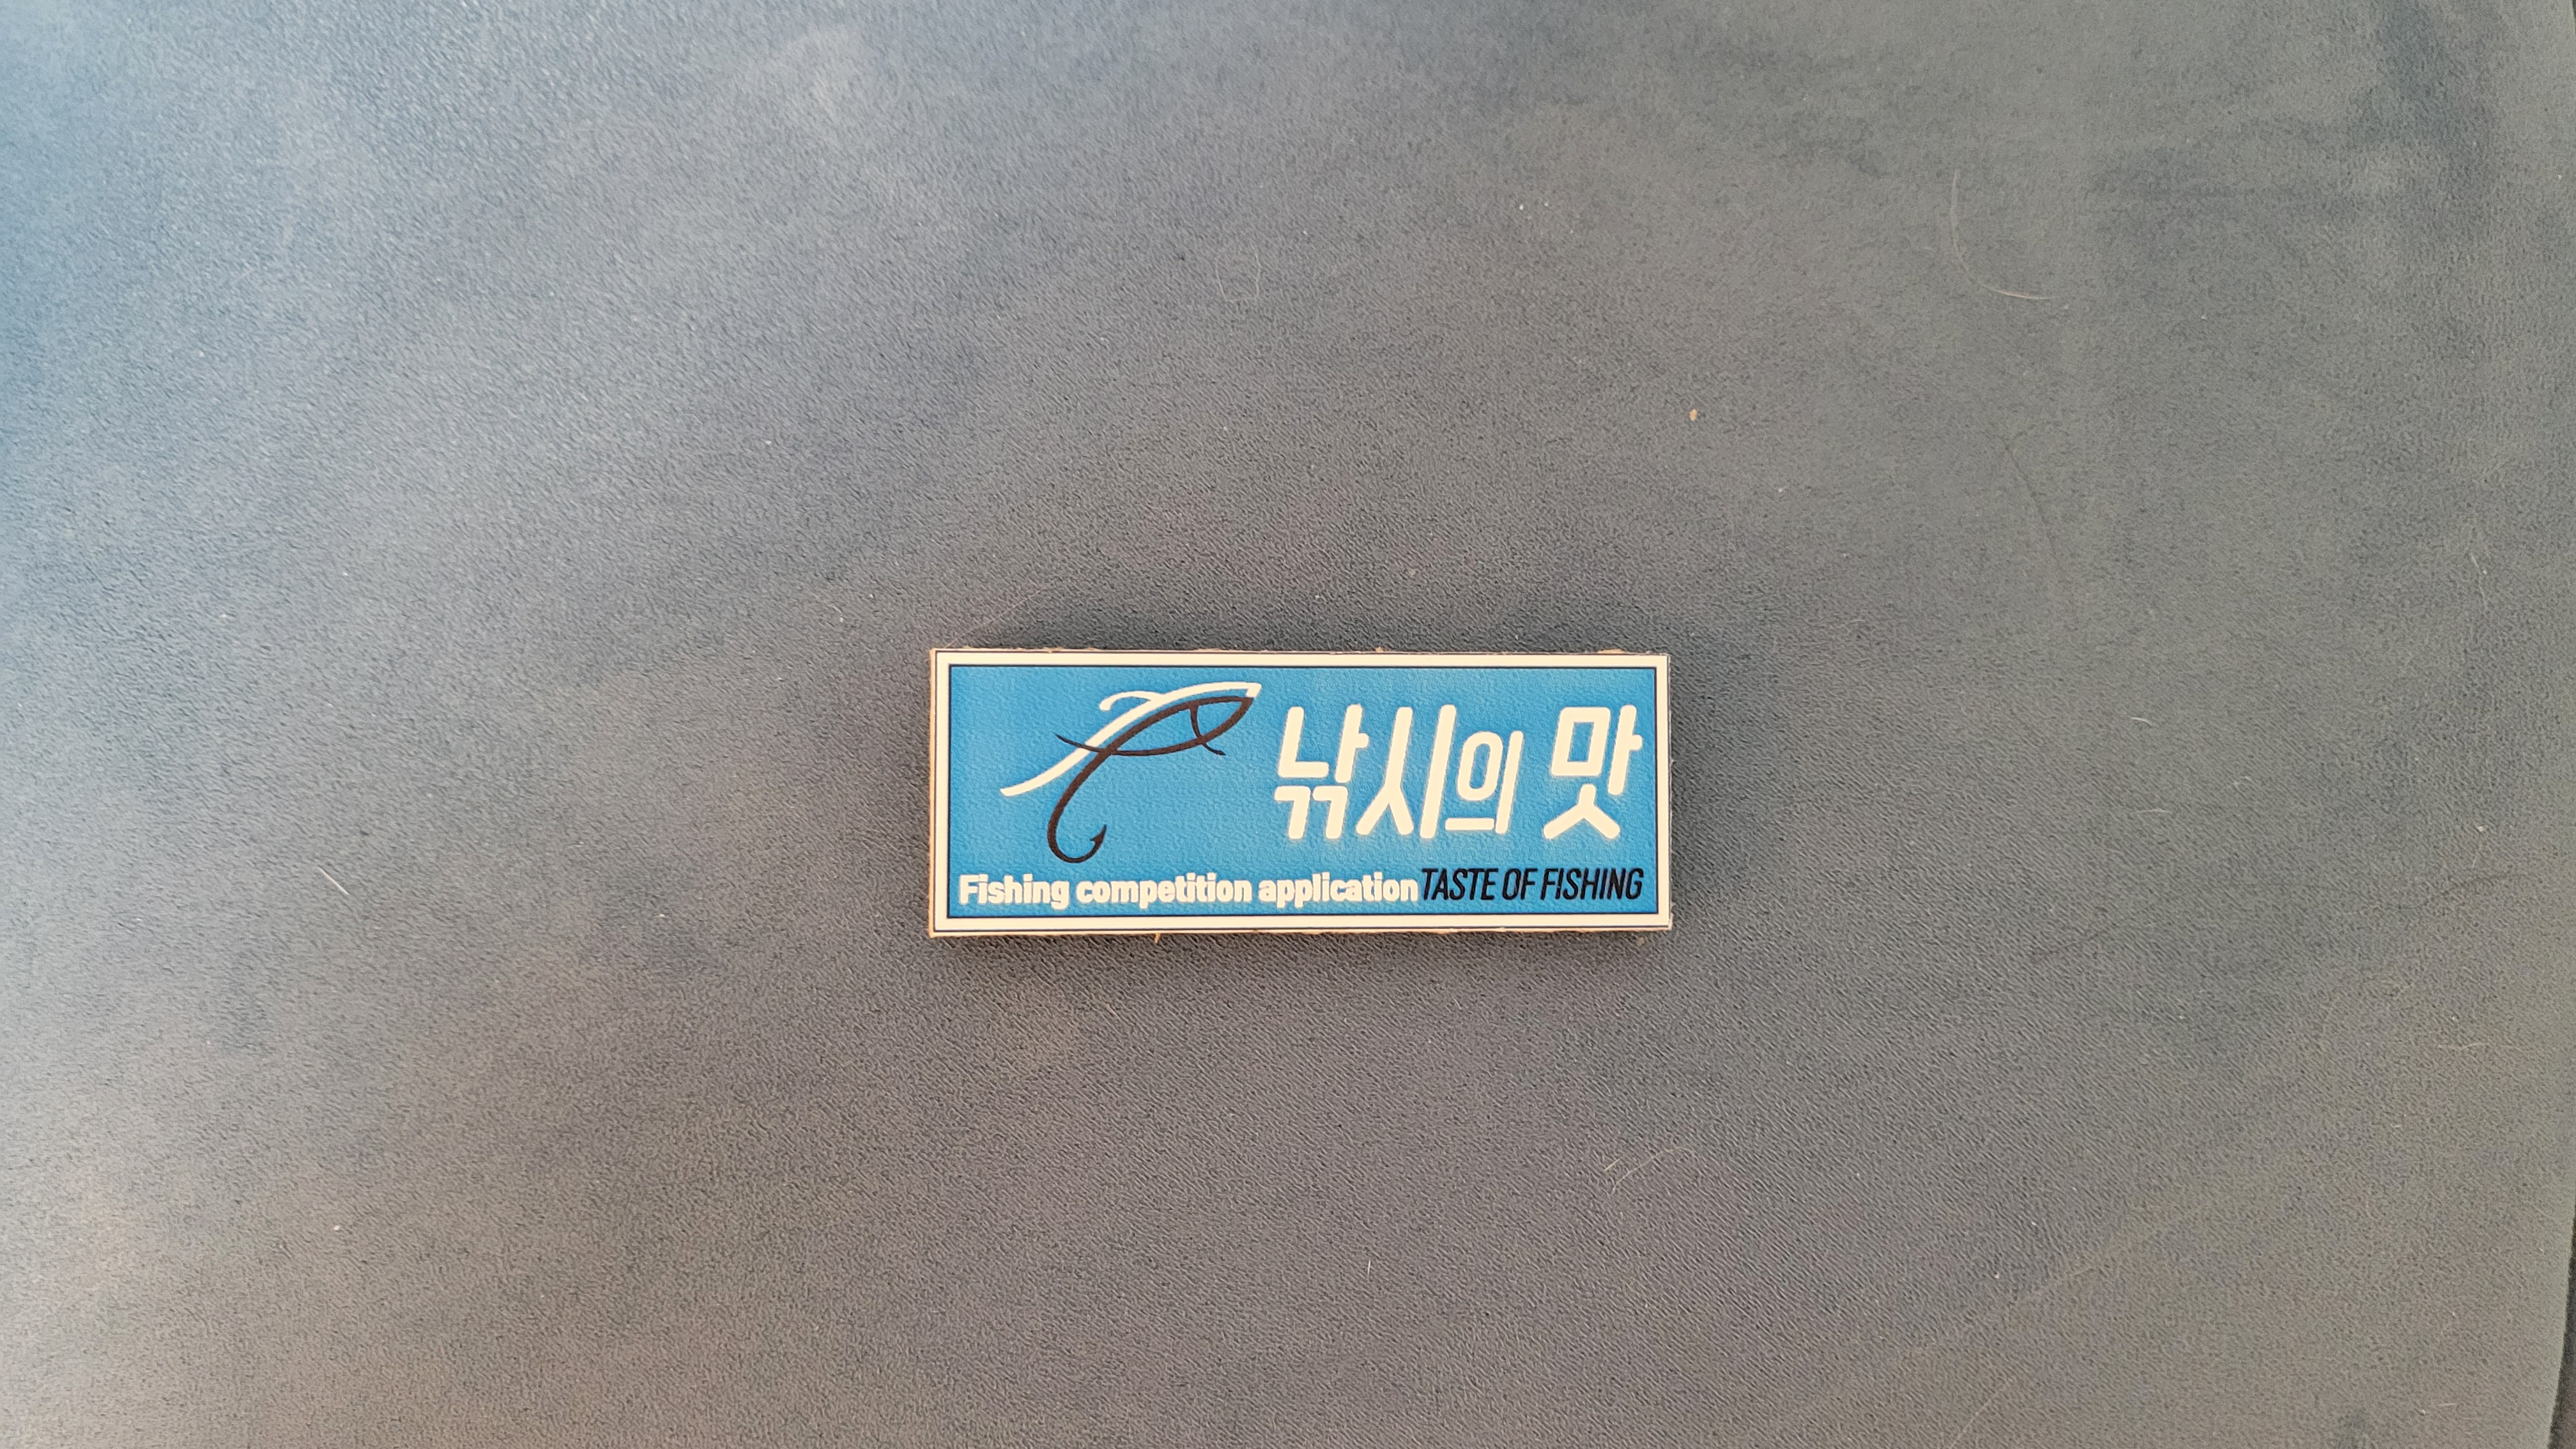tag: (925, 648, 1674, 934)
